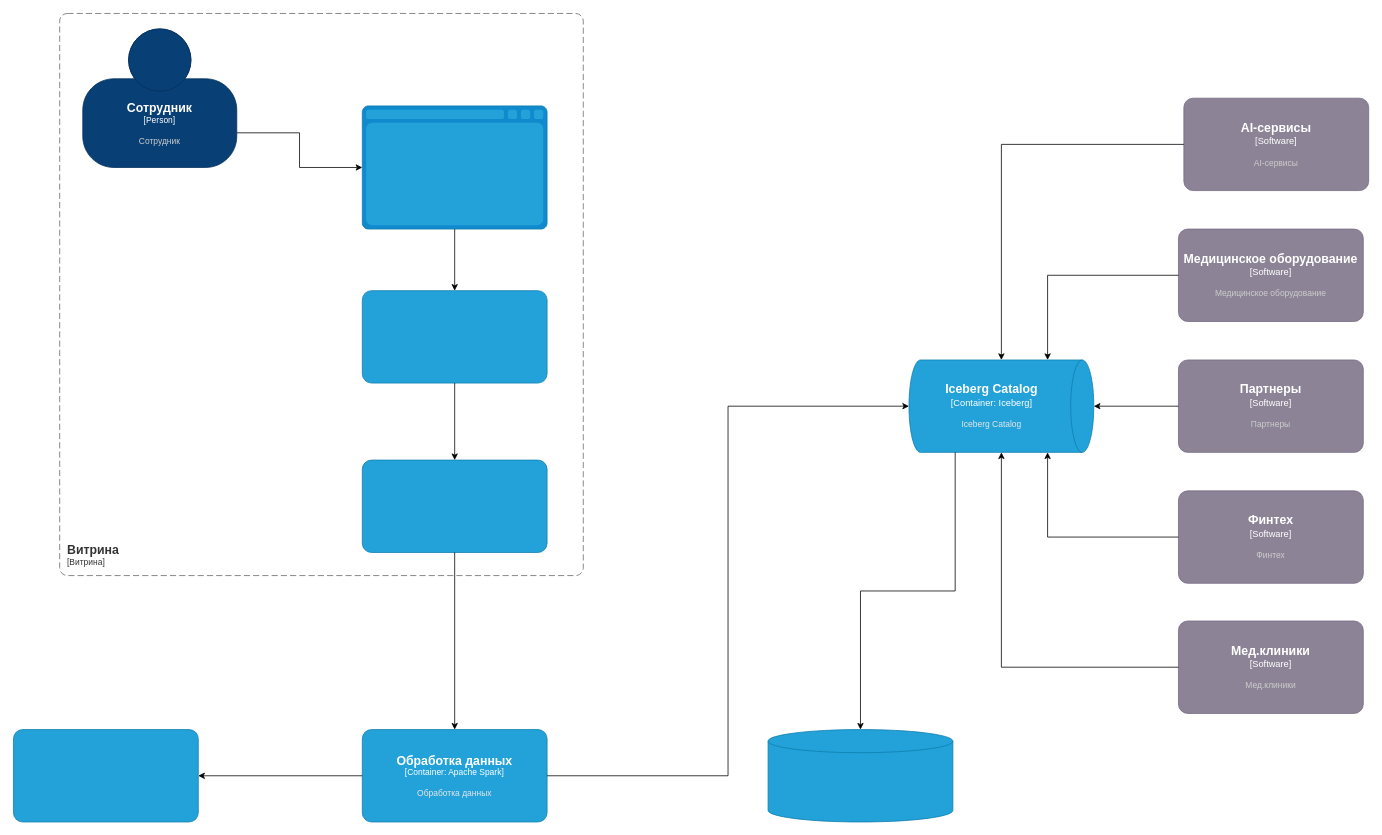
This 1382x835 diagram has some shape labels left out. The shapes that lost their labels are listed below. From the top down, each one's centre as x and y in pixels, then its label:
At pixel 454 167: "Портал самообслуживания [Container: React] Портал самообслуживания".
At pixel 454 336: "API [Container: DataHub] Поиск, RBAC".
At pixel 454 505: "SQL Engine [Container: Dremio] Без медицинских данных".
At pixel 105 775: "Legacy DWH [Container: Microsoft SQL Server 2008] Внутренне хранилище".
At pixel 860 775: "S3 [Container: S3] S3 Хранилище".
